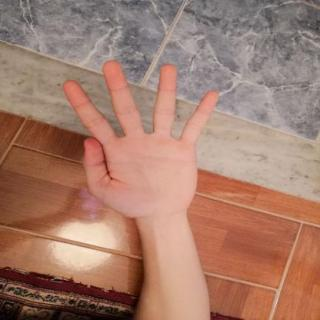SHEEN: (45, 54, 227, 224)
